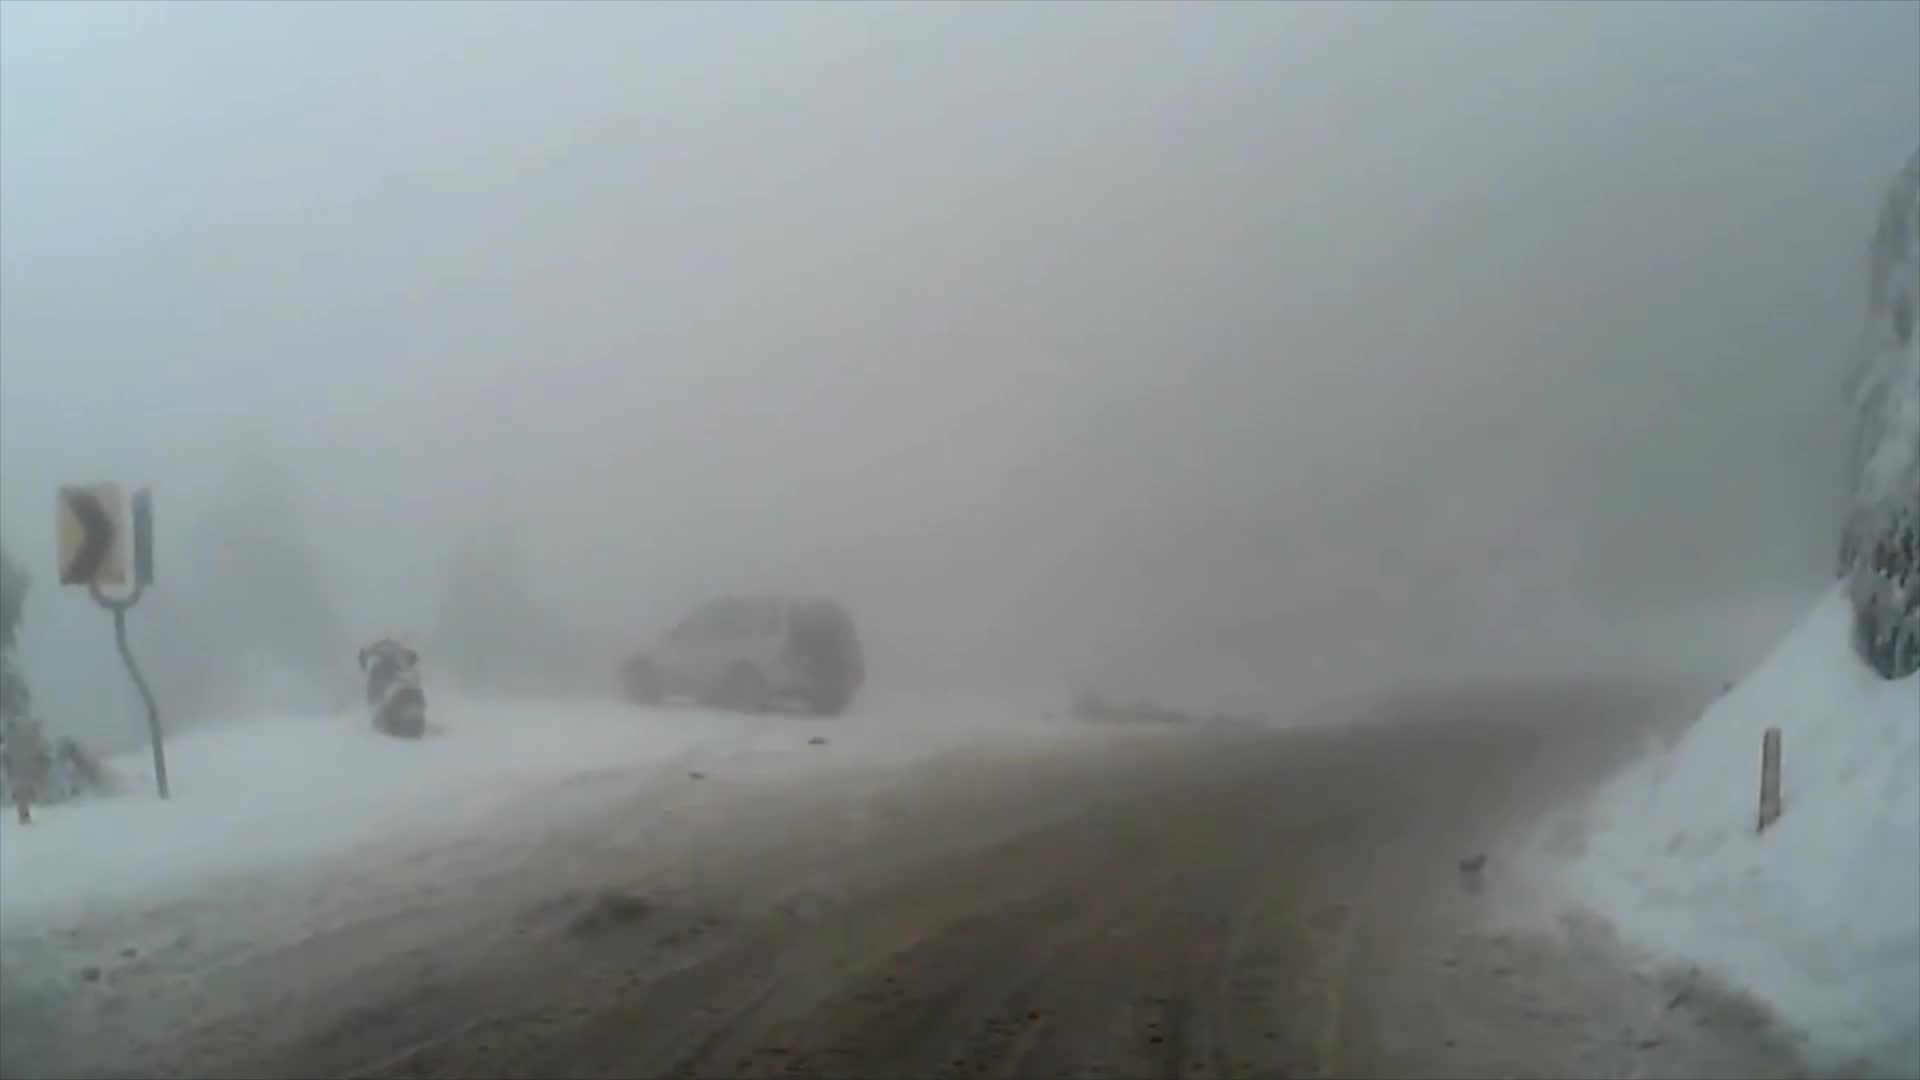vehicle: (620, 593, 865, 716)
